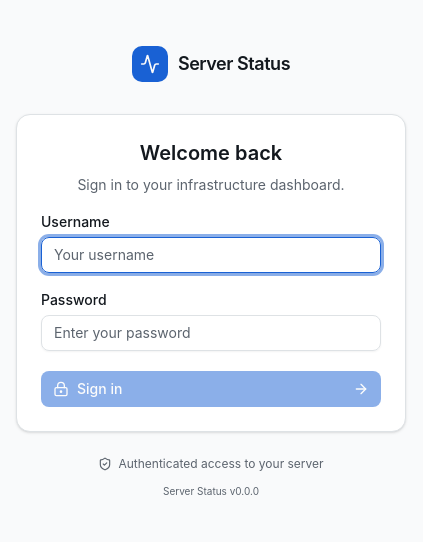
authentication flow › shows a login error and permits retry
Type "example-user" into the field labelled "Username" at (211,254), box left=41, top=236, right=381, bottom=272
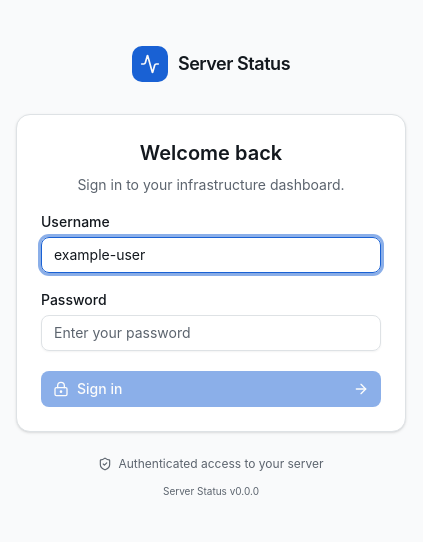
Type "wrong" into the password field labelled "Password" at (211,332), box left=41, top=314, right=381, bottom=350
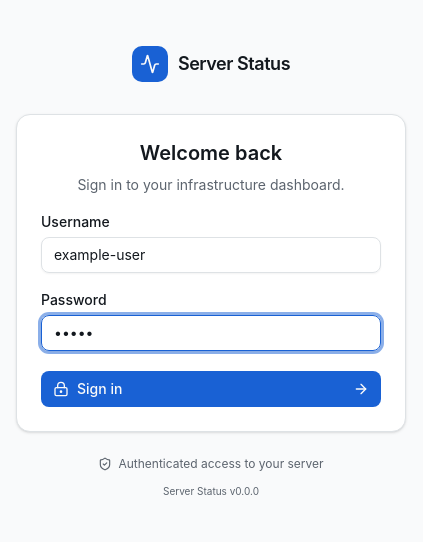
Click the button "Sign in" at (100,388), box left=41, top=370, right=381, bottom=406
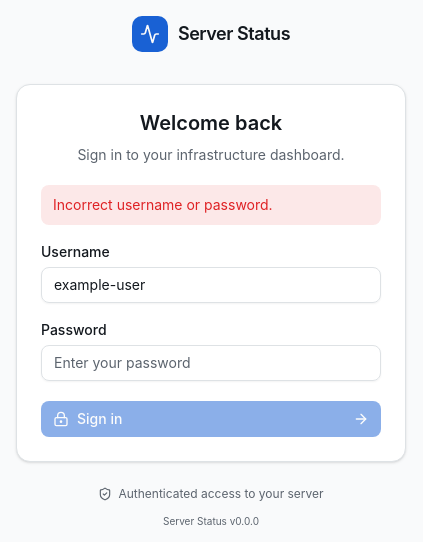
Now the message shows "Incorrect username or password", box left=53, top=196, right=273, bottom=212
Now the password field labelled "Password" is empty, box left=41, top=344, right=381, bottom=380
